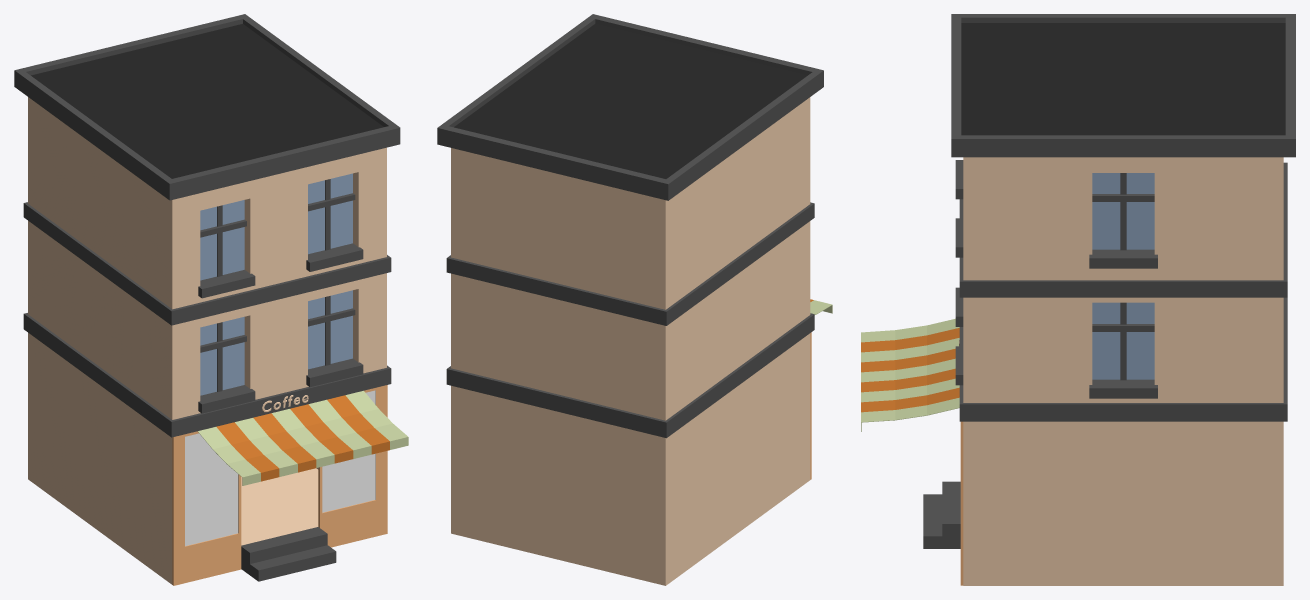
File: Coffee_03.fbx
3 renders of one model, left to right at view 1: azimuth 30°, elevation 25°; view 2: azimuth 150°, elevation 25°; view 3: azimuth 270°, elevation 25°, orthographic. The views are drawn at different scales.
Parts seen in each view (by area): view 1: Coffee_03; view 2: Coffee_03; view 3: Coffee_03.
Part boxes in pixels (box(x1,y1,x2,y2)): Coffee_03: box(14, 14, 408, 585); Coffee_03: box(437, 14, 832, 585); Coffee_03: box(861, 14, 1295, 585).
Bounding box in the file's own units: 485 × 817 × 713.
